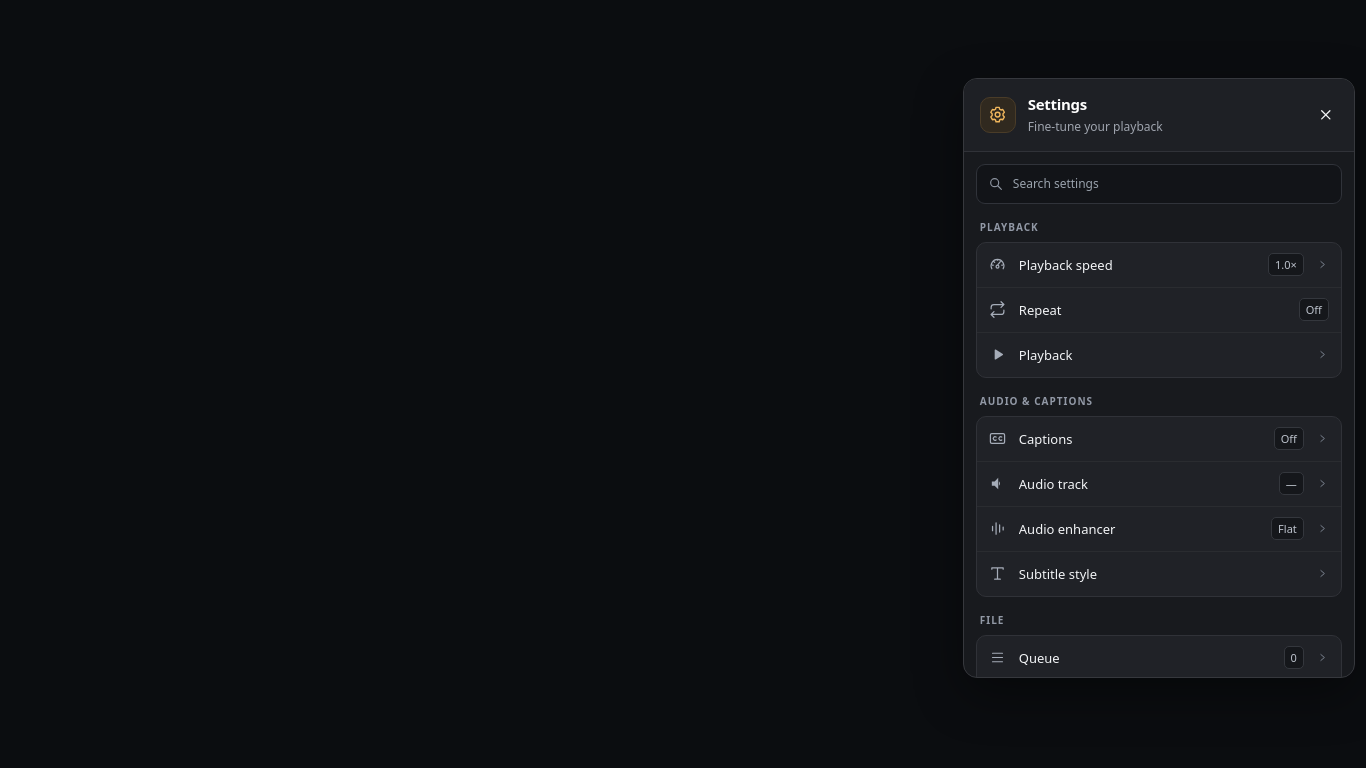
Test case: SettingsPopup › shows stacked subtitle-style sliders with fully visible readouts
Click the button "Subtitle style" at (1058, 574), box [977,552,1341,596]
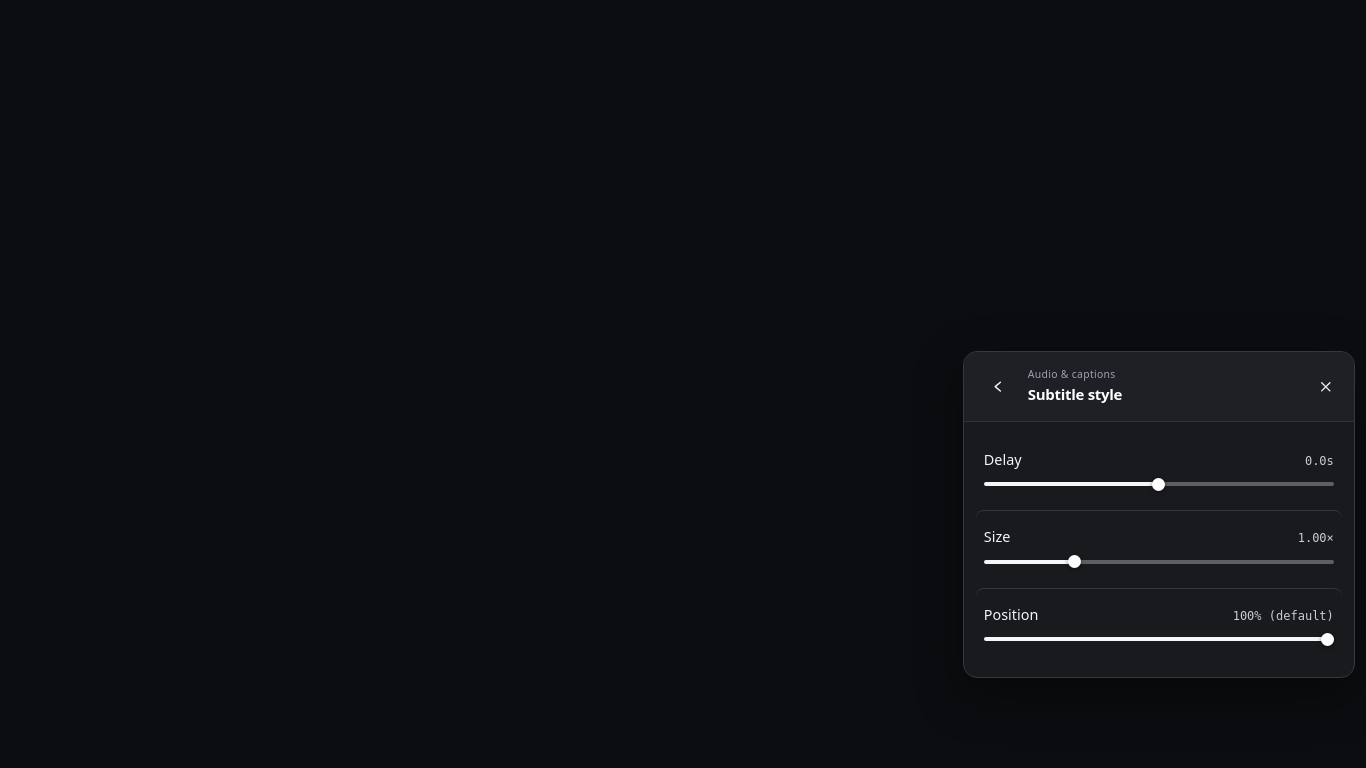
expect the number of sliders is 3: met, box [984,474,1334,494]; [984,552,1334,572]; [984,629,1334,649]
expect the text "0.0s" is shown: met, box [1305,454,1334,468]
expect the text "1.00×" is shown: met, box [1298,531,1334,545]
